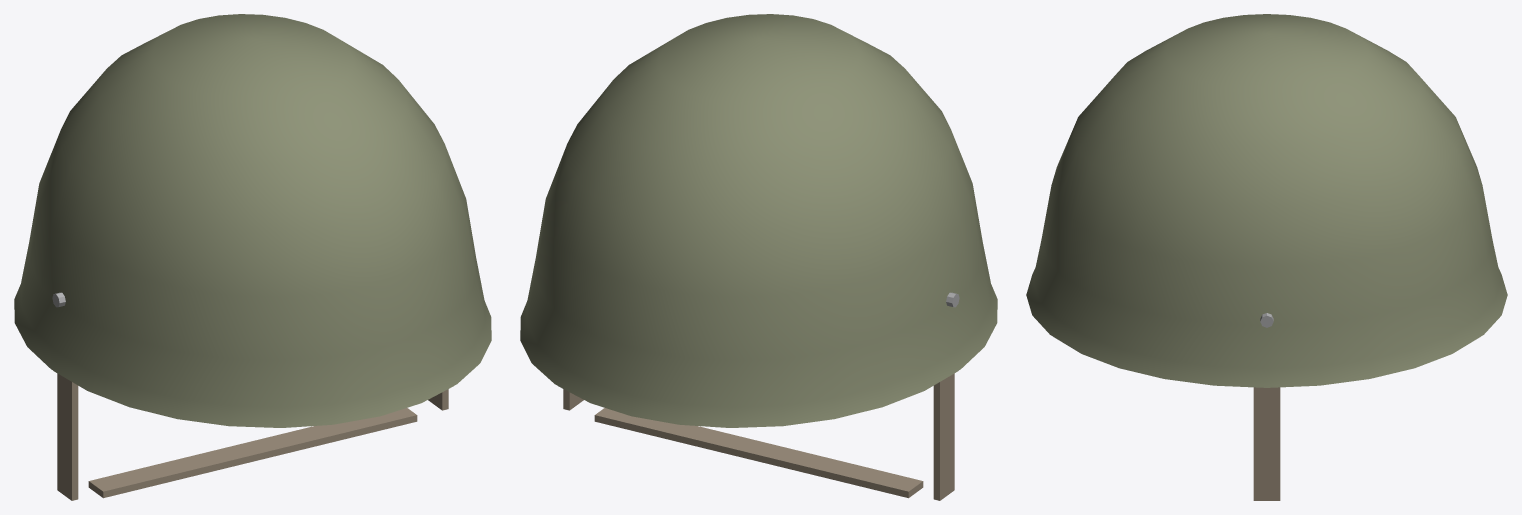
Rendered from helmet.glb.
The picture shows the model from 3 angles, left to right: view 1: azimuth 30°, elevation 25°; view 2: azimuth 150°, elevation 25°; view 3: azimuth 270°, elevation 25°; orthographic projection. The views are drawn at different scales.
Visible parts, largest first — view 1: helmet; view 2: helmet; view 3: helmet.
Boxes of the visible parts, <box> form: helmet: <box>14,14,491,500</box>; helmet: <box>520,14,997,500</box>; helmet: <box>1026,14,1507,500</box>.
Size of the model in its own units: 0.2574 by 0.253 by 0.286.
